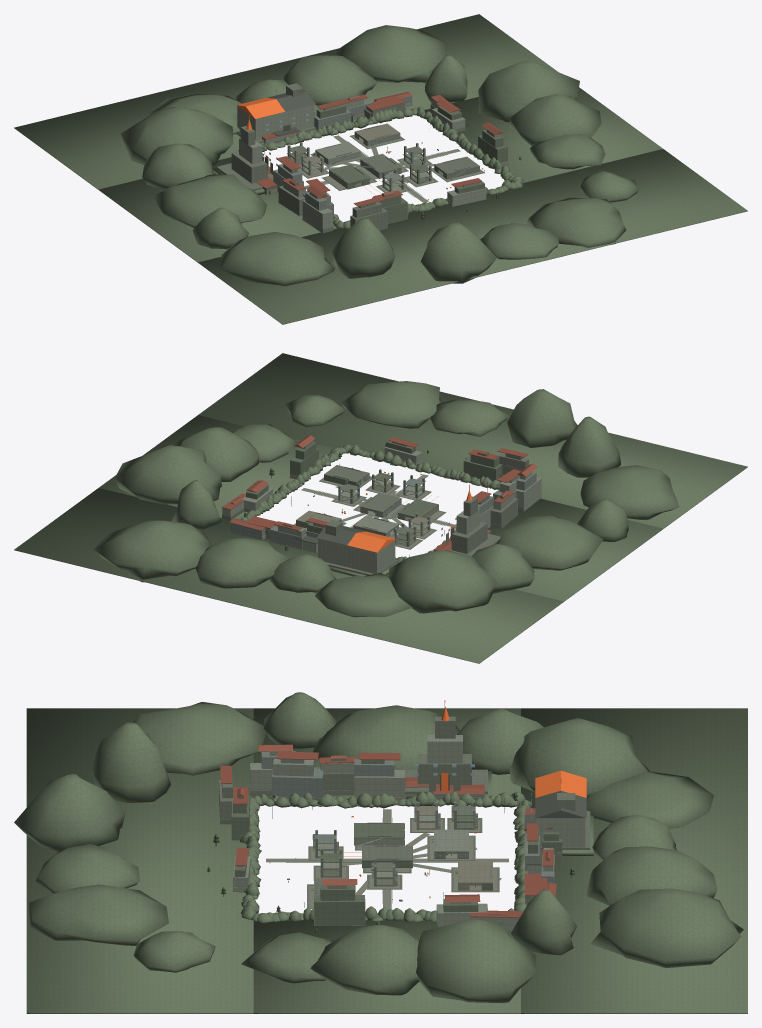
The model's file is renshujo-lod1.glb.
3 renders of one model, top to bottom at view 1: azimuth 30°, elevation 25°; view 2: azimuth 150°, elevation 25°; view 3: azimuth 270°, elevation 25°, orthographic. The views are drawn at different scales.
Parts seen in each view (by area): view 1: HB_renshujo_LOD1_terrain, HB_renshujo_LOD1_wall_alt, HB_renshujo_LOD1_wall, HB_renshujo_LOD1_wall_weathered, HB_renshujo_LOD1_roof, HB_renshujo_LOD1_wall_cool, HB_renshujo_LOD1_road, HB_renshujo_LOD1_LANDMARK_0_wall, HB_renshujo_LOD1_LANDMARK_1_wall_alt, HB_renshujo_LOD1_wall_warm, HB_renshujo_LOD1_LANDMARK_0_accent, HB_renshujo_LOD1_LANDMARK_0_trim; view 2: HB_renshujo_LOD1_terrain, HB_renshujo_LOD1_wall_alt, HB_renshujo_LOD1_wall_weathered, HB_renshujo_LOD1_wall, HB_renshujo_LOD1_roof, HB_renshujo_LOD1_wall_cool, HB_renshujo_LOD1_LANDMARK_0_wall, HB_renshujo_LOD1_road, HB_renshujo_LOD1_LANDMARK_1_wall_alt, HB_renshujo_LOD1_wall_warm, HB_renshujo_LOD1_LANDMARK_0_accent; view 3: HB_renshujo_LOD1_terrain, HB_renshujo_LOD1_wall, HB_renshujo_LOD1_wall_weathered, HB_renshujo_LOD1_wall_alt, HB_renshujo_LOD1_roof, HB_renshujo_LOD1_wall_cool, HB_renshujo_LOD1_road, HB_renshujo_LOD1_LANDMARK_1_wall_alt, HB_renshujo_LOD1_wall_warm, HB_renshujo_LOD1_LANDMARK_0_wall, HB_renshujo_LOD1_LANDMARK_0_accent, HB_renshujo_LOD1_LANDMARK_1_wall (+3 smaller).
Part boxes in pixels (x1,y1,x2,y2): HB_renshujo_LOD1_terrain: (14,14,747,324); HB_renshujo_LOD1_wall_alt: (263,97,507,233); HB_renshujo_LOD1_wall: (262,98,486,232); HB_renshujo_LOD1_wall_weathered: (256,104,507,227); HB_renshujo_LOD1_roof: (256,92,503,206); HB_renshujo_LOD1_wall_cool: (268,96,479,218); HB_renshujo_LOD1_road: (290,135,484,202); HB_renshujo_LOD1_LANDMARK_0_wall: (237,104,314,140); HB_renshujo_LOD1_LANDMARK_1_wall_alt: (216,125,273,190); HB_renshujo_LOD1_wall_warm: (266,105,507,194); HB_renshujo_LOD1_LANDMARK_0_accent: (236,89,284,118); HB_renshujo_LOD1_LANDMARK_0_trim: (267,91,315,131); HB_renshujo_LOD1_terrain: (14,353,747,663); HB_renshujo_LOD1_wall_alt: (222,452,541,549); HB_renshujo_LOD1_wall_weathered: (222,441,502,546); HB_renshujo_LOD1_wall: (222,447,541,552); HB_renshujo_LOD1_roof: (221,435,537,550); HB_renshujo_LOD1_wall_cool: (230,442,536,551); HB_renshujo_LOD1_LANDMARK_0_wall: (318,538,395,573); HB_renshujo_LOD1_road: (295,474,456,549); HB_renshujo_LOD1_LANDMARK_1_wall_alt: (446,496,500,555); HB_renshujo_LOD1_wall_warm: (269,441,438,548); HB_renshujo_LOD1_LANDMARK_0_accent: (347,523,395,552); HB_renshujo_LOD1_terrain: (14,692,747,1013); HB_renshujo_LOD1_wall: (233,751,553,931); HB_renshujo_LOD1_wall_weathered: (220,786,562,925); HB_renshujo_LOD1_wall_alt: (218,758,562,931); HB_renshujo_LOD1_roof: (220,744,556,917); HB_renshujo_LOD1_wall_cool: (237,751,555,897); HB_renshujo_LOD1_road: (266,809,508,909); HB_renshujo_LOD1_LANDMARK_1_wall_alt: (405,716,487,794); HB_renshujo_LOD1_wall_warm: (311,796,541,925); HB_renshujo_LOD1_LANDMARK_0_wall: (536,818,585,847); HB_renshujo_LOD1_LANDMARK_0_accent: (535,770,586,797); HB_renshujo_LOD1_LANDMARK_1_wall: (427,735,462,763).
Bounding box in the file's own units: 540 × 75.09 × 550.
14 materials, 12 textured.
